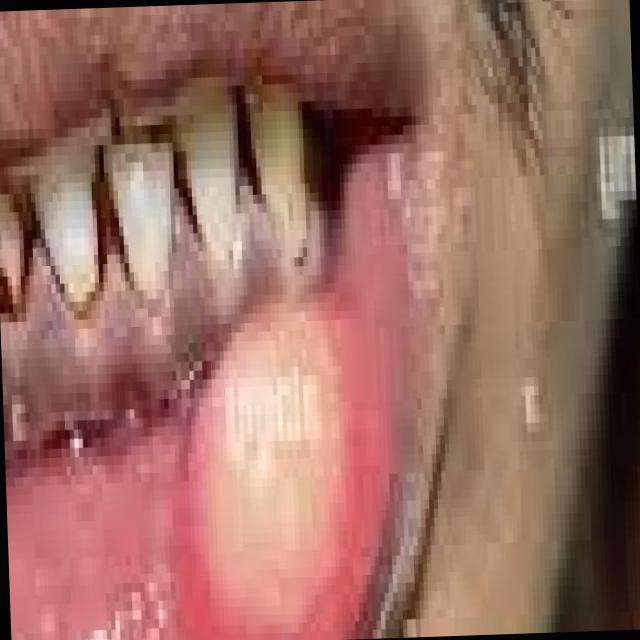abscess: (125, 290, 381, 640)
caries: (0, 286, 239, 441), (0, 202, 22, 340)
